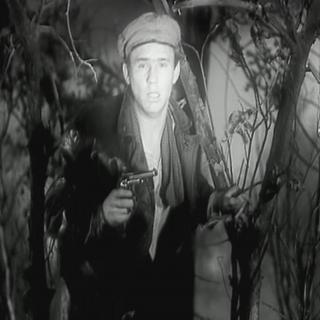gun: (100, 158, 168, 227)
